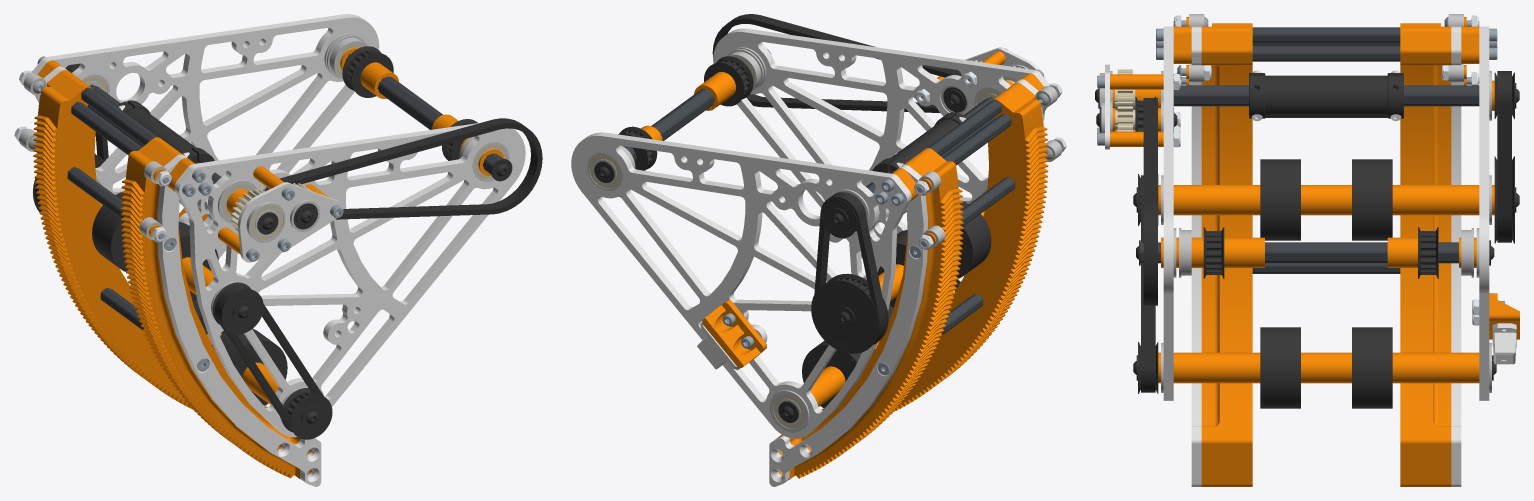
3 views of the same model, side by side, from view 1: azimuth 30°, elevation 25°; view 2: azimuth 150°, elevation 25°; view 3: azimuth 270°, elevation 25° (orthographic). The views are drawn at different scales.
Visible parts, largest first — view 1: Hood Plate (×2), Spur gear (400 teeth) (×2), Hood Bearing Track Plate, 95T 5M 9mm Wide Belt, 3/8" ThunderHex (3.625 in) (×4), 18t Custom HTD 5mm Pulley (0.375" Wide, 1/2" Hex Bore w/ TTB (×3), Hood Gear Plate, 2" Solid Urethane Wheel (45A, 1" Wide, 1/2" Hex Bore) (×2), 60T 5M 9mm Wide Belt, 1/2" Hex Bore Bearing (1.125" OD, 0.313" WD, Shielded, Flang (×3), 1/2" ThunderHex (8.562 in), 1/2" Hex Bore Custom Spacer (0.75" OD,0.75" L) (+1 smaller); view 2: Hood Plate (×2), Spur gear (400 teeth) (×2), Hood Bearing Track Plate, 32t Custom HTD 5mm Pulley (0.375" Wide, 1/2" Hex Bore w/ TTB, 3/8" ThunderHex (3.625 in) (×4), 95T 5M 9mm Wide Belt, 2" Solid Urethane Wheel (45A, 1" Wide, 1/2" Hex Bore) (×2), 55T 5M 9mm Wide Belt, 1/2" Hex Bore Bearing (1.125" OD, 0.313" WD, Shielded, Flang (×3), Main Switch Mount, 18t Custom HTD 5mm Pulley (0.375" Wide, 1/2" Hex Bore w/ TTB (×2), 1/2" ThunderHex (8.562 in) (+5 smaller); view 3: Spur gear (400 teeth) (×2), 2" Solid Urethane Wheel (45A, 1" Wide, 1/2" Hex Bore) (×4), 1/2" Hex Bore Custom Spacer (0.75" OD,2.125" L) (×4), Hood Plate (×2), Hood Bearing Track Plate (×2), 3/8" ThunderHex (3.625 in) (×3), 1" Solid Urethane Wheel (45A, 1" Wide, 1/2" Hex Bore) (×3), 1/2" ThunderHex (8.562 in), 1/2" ThunderHex (10.191 in), 1/2" Hex Bore Custom Spacer (0.75" OD,1.25" L) (×2), 95T 5M 9mm Wide Belt, 55T 5M 9mm Wide Belt (+12 smaller).
Boxes of the visible parts, left/top/right/bottom form: Hood Plate (×2): left=32, top=14, right=525, bottom=437; Spur gear (400 teeth) (×2): left=33, top=70, right=311, bottom=479; Hood Bearing Track Plate: left=157, top=154, right=321, bottom=486; 95T 5M 9mm Wide Belt: left=264, top=118, right=542, bottom=219; 3/8" ThunderHex (3.625 in) (×4): left=67, top=87, right=157, bottom=332; 18t Custom HTD 5mm Pulley (0.375" Wide, 1/2" Hex Bore w/ TTB (×3): left=212, top=46, right=393, bottom=439; Hood Gear Plate: left=237, top=182, right=343, bottom=262; 2" Solid Urethane Wheel (45A, 1" Wide, 1/2" Hex Bore) (×2): left=92, top=192, right=287, bottom=405; 60T 5M 9mm Wide Belt: left=215, top=284, right=323, bottom=431; 1/2" Hex Bore Bearing (1.125" OD, 0.313" WD, Shielded, Flang (×3): left=218, top=35, right=367, bottom=242; 1/2" ThunderHex (8.562 in): left=345, top=54, right=503, bottom=174; 1/2" Hex Bore Custom Spacer (0.75" OD,0.75" L): left=360, top=62, right=398, bottom=98; Hood Plate (×2): left=571, top=28, right=1049, bottom=438; Spur gear (400 teeth) (×2): left=776, top=82, right=1048, bottom=479; Hood Bearing Track Plate: left=769, top=164, right=928, bottom=486; 32t Custom HTD 5mm Pulley (0.375" Wide, 1/2" Hex Bore w/ TTB: left=811, top=273, right=888, bottom=353; 3/8" ThunderHex (3.625 in) (×4): left=927, top=99, right=1015, bottom=337; 95T 5M 9mm Wide Belt: left=712, top=14, right=961, bottom=112; 2" Solid Urethane Wheel (45A, 1" Wide, 1/2" Hex Bore) (×2): left=802, top=201, right=991, bottom=407; 55T 5M 9mm Wide Belt: left=814, top=192, right=886, bottom=343; 1/2" Hex Bore Bearing (1.125" OD, 0.313" WD, Shielded, Flang (×3): left=587, top=49, right=809, bottom=432; Main Switch Mount: left=702, top=300, right=766, bottom=368; 18t Custom HTD 5mm Pulley (0.375" Wide, 1/2" Hex Bore w/ TTB (×2): left=618, top=56, right=753, bottom=170; 1/2" ThunderHex (8.562 in): left=623, top=89, right=714, bottom=161; Spur gear (400 teeth) (×2): left=1201, top=23, right=1451, bottom=486; 2" Solid Urethane Wheel (45A, 1" Wide, 1/2" Hex Bore) (×4): left=1260, top=159, right=1392, bottom=408; 1/2" Hex Bore Custom Spacer (0.75" OD,2.125" L) (×4): left=1173, top=185, right=1479, bottom=383; Hood Plate (×2): left=1163, top=26, right=1489, bottom=400; Hood Bearing Track Plate (×2): left=1191, top=26, right=1461, bottom=486; 3/8" ThunderHex (3.625 in) (×3): left=1252, top=27, right=1400, bottom=273; 1" Solid Urethane Wheel (45A, 1" Wide, 1/2" Hex Bore) (×3): left=1265, top=75, right=1387, bottom=115; 1/2" ThunderHex (8.562 in): left=1140, top=242, right=1458, bottom=263; 1/2" ThunderHex (10.191 in): left=1115, top=85, right=1479, bottom=106; 1/2" Hex Bore Custom Spacer (0.75" OD,1.25" L) (×2): left=1301, top=185, right=1351, bottom=383; 95T 5M 9mm Wide Belt: left=1143, top=98, right=1157, bottom=305; 55T 5M 9mm Wide Belt: left=1497, top=71, right=1511, bottom=242.
Size of the model in its own units: 0.2911 by 0.2679 by 0.265.
